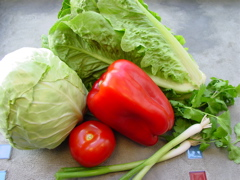cabbage: (0, 46, 90, 152)
